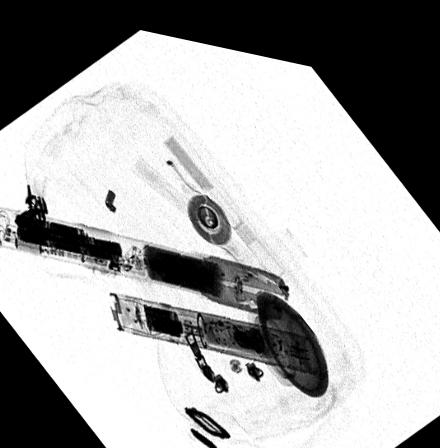Baton: (0, 205, 290, 308), (104, 284, 321, 361)
